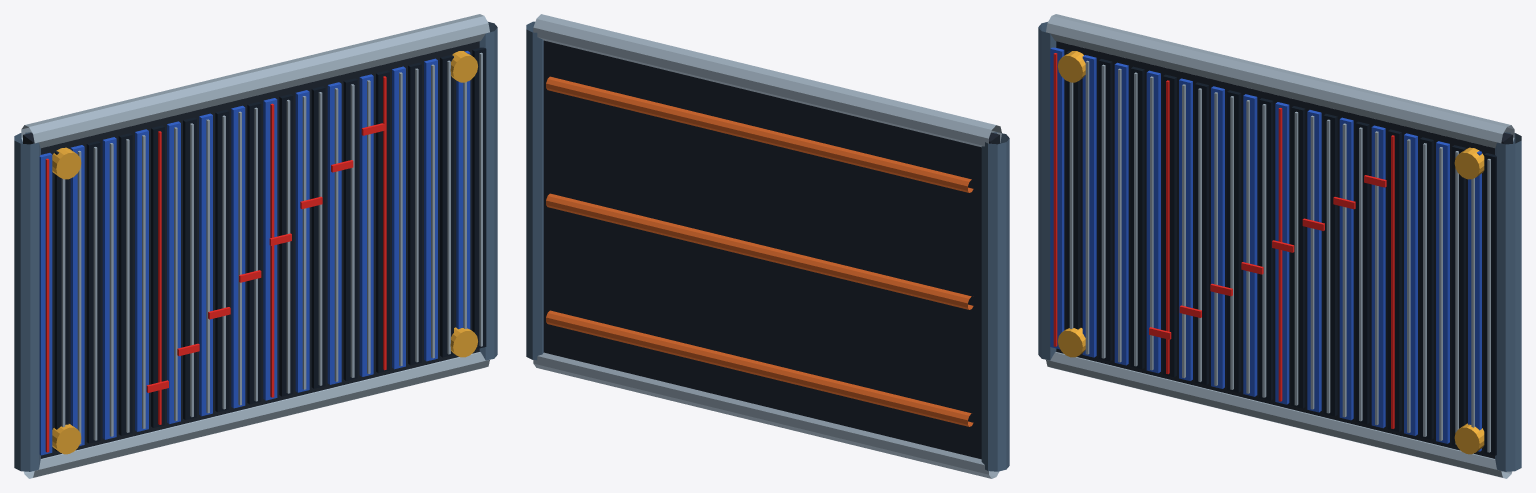
File: 46_L86_FailedThermalRadiatorModule.fbx
The picture shows the model from 3 angles, left to right: view 1: azimuth 30°, elevation 25°; view 2: azimuth 150°, elevation 25°; view 3: azimuth 330°, elevation 25°; orthographic projection.
Visible parts, largest first — view 1: L86_FailedThermalRadiatorModule_Part_0006, L86_FailedThermalRadiatorModule_Part_0004, L86_FailedThermalRadiatorModule_Part_0002, L86_FailedThermalRadiatorModule_Part_0000, L86_FailedThermalRadiatorModule_Part_0001, L86_FailedThermalRadiatorModule_Part_0003, L86_FailedThermalRadiatorModule_Part_0005, L86_FailedThermalRadiatorModule_Part_0008; view 2: L86_FailedThermalRadiatorModule_Part_0000, L86_FailedThermalRadiatorModule_Part_0002, L86_FailedThermalRadiatorModule_Part_0007, L86_FailedThermalRadiatorModule_Part_0001; view 3: L86_FailedThermalRadiatorModule_Part_0004, L86_FailedThermalRadiatorModule_Part_0006, L86_FailedThermalRadiatorModule_Part_0002, L86_FailedThermalRadiatorModule_Part_0000, L86_FailedThermalRadiatorModule_Part_0001, L86_FailedThermalRadiatorModule_Part_0003, L86_FailedThermalRadiatorModule_Part_0005, L86_FailedThermalRadiatorModule_Part_0008.
Boxes of the visible parts, x1,y1,x2,y2 form: L86_FailedThermalRadiatorModule_Part_0006: [54, 47, 486, 451]; L86_FailedThermalRadiatorModule_Part_0004: [39, 51, 470, 455]; L86_FailedThermalRadiatorModule_Part_0002: [21, 14, 489, 478]; L86_FailedThermalRadiatorModule_Part_0000: [23, 41, 479, 458]; L86_FailedThermalRadiatorModule_Part_0001: [14, 22, 497, 471]; L86_FailedThermalRadiatorModule_Part_0003: [318, 52, 482, 385]; L86_FailedThermalRadiatorModule_Part_0005: [45, 76, 386, 452]; L86_FailedThermalRadiatorModule_Part_0008: [52, 51, 477, 454]; L86_FailedThermalRadiatorModule_Part_0000: [543, 40, 999, 459]; L86_FailedThermalRadiatorModule_Part_0002: [533, 14, 1001, 478]; L86_FailedThermalRadiatorModule_Part_0007: [546, 76, 973, 426]; L86_FailedThermalRadiatorModule_Part_0001: [526, 21, 1009, 471]; L86_FailedThermalRadiatorModule_Part_0004: [1050, 47, 1481, 451]; L86_FailedThermalRadiatorModule_Part_0006: [1066, 51, 1496, 455]; L86_FailedThermalRadiatorModule_Part_0002: [1046, 14, 1514, 478]; L86_FailedThermalRadiatorModule_Part_0000: [1056, 41, 1512, 458]; L86_FailedThermalRadiatorModule_Part_0001: [1038, 22, 1521, 471]; L86_FailedThermalRadiatorModule_Part_0003: [1326, 119, 1490, 452]; L86_FailedThermalRadiatorModule_Part_0005: [1053, 53, 1394, 428]; L86_FailedThermalRadiatorModule_Part_0008: [1058, 51, 1484, 454].
Size of the model in its own units: 344 by 241 by 28.03.
